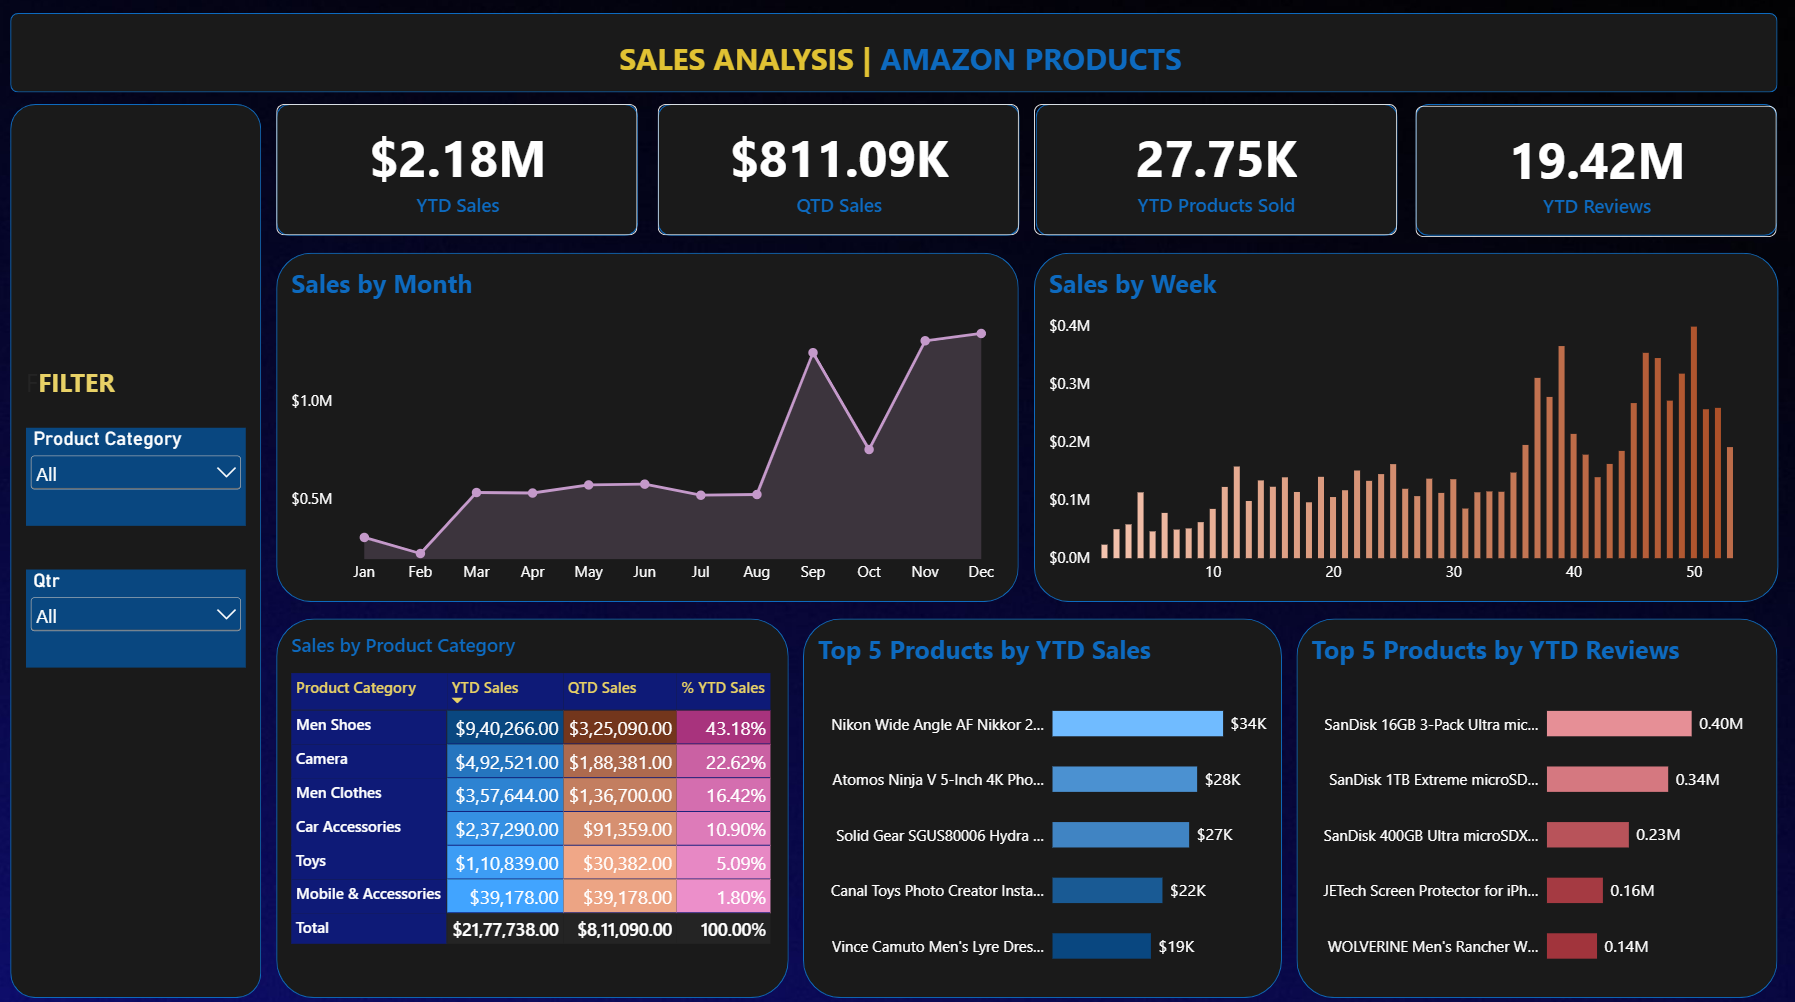

What the dashboard file says about the page in this screenshot:
{"tool":"powerbi","page":{"name":"Page 1","canvas":[1920,1080],"ordinal":0},"visuals":[{"type":"shape","box":[13.4,15.6,1884,84.7],"z":0},{"type":"shape","box":[13.4,111.5,267.6,952],"z":2000},{"type":"group","id":"g1","title":"Group 1","box":[296.5,111.5,1600.9,142.7],"z":3000},{"type":"shape","box":[296.5,111.5,385.7,140.5],"z":3000,"group":"g1"},{"type":"cardVisual","fields":{"Data":["Amazon_Data.YTD Sales"]},"box":[296.5,111.5,385.7,140.5],"z":4000,"group":"g1"},{"type":"shape","box":[296.5,269.8,791.5,372.3],"z":4000},{"type":"shape","box":[702.3,111.5,385.7,140.5],"z":4500,"group":"g1"},{"type":"cardVisual","fields":{"Data":["Amazon_Data.QTD Sales"]},"box":[702.3,111.5,385.7,140.5],"z":5000,"group":"g1"},{"type":"areaChart","title":"Sales by Month","fields":{"Category":["Date Table.Month Name"],"Y":["Sum(Amazon_Data.Price(Dollar))"]},"box":[296.5,269.8,791.5,372.3],"z":5000},{"type":"shape","box":[1106.6,111.5,385.7,140.5],"z":5500,"group":"g1"},{"type":"cardVisual","fields":{"Data":["Amazon_Data.YTD Products Sold"]},"box":[1103.6,111.5,388,140.5],"z":6000,"group":"g1"},{"type":"shape","box":[1103.7,269.8,793.7,372.3],"z":6000},{"type":"shape","box":[1511.6,111.5,385.7,140.5],"z":6500,"group":"g1"},{"type":"cardVisual","fields":{"Data":["Amazon_Data.YTD Reviews"]},"box":[1511.6,113.7,385.7,140.5],"z":7000,"group":"g1"},{"type":"columnChart","title":"Sales by Week","fields":{"Category":["Date Table.Week Number"],"Y":["Sum(Amazon_Data.Price(Dollar))"]},"box":[1103.7,269.8,793.7,372.3],"z":7000},{"type":"shape","box":[296.5,660,546.3,403.6],"z":8000},{"type":"pivotTable","title":"Sales by Product Category","fields":{"Rows":["Amazon_Data.Product Category"],"Values":["Amazon_Data.YTD Sales1","Amazon_Data.QTD Sales","Amazon_Data.YTD Sales"]},"box":[296.5,660,546.3,403.6],"z":9000},{"type":"shape","box":[858.4,660,510.6,403.6],"z":9001},{"type":"shape","box":[1384.6,660,512.8,403.6],"z":9002},{"type":"clusteredBarChart","title":"Top 5 Products by YTD Sales","fields":{"Category":["Amazon_Data.Product Description"],"Y":["Amazon_Data.YTD Sales"]},"box":[858.4,660,510.6,403.6],"z":9003},{"type":"clusteredBarChart","title":"Top 5 Products by YTD Reviews","fields":{"Category":["Amazon_Data.Product Description"],"Y":["Amazon_Data.YTD Reviews"]},"box":[1384.6,660,512.8,403.6],"z":9004},{"type":"slicer","fields":{"Values":["Amazon_Data.Product Category"]},"box":[29,457.1,234.1,104.8],"z":9005},{"type":"slicer","fields":{"Values":["Date Table.Qtr"]},"box":[29,608.7,234.1,104.8],"z":9007},{"type":"textbox","box":[662.2,40.1,613.1,44.6],"z":9008},{"type":"textbox","box":[29,390.2,234.1,35.7],"z":9010}]}

Visuals, with their boxes in screenshot pixels (x1, y1, x2, y2), scaled from the page's 1920x1080 canvas onto the 1795x1002 screenshot:
shape: detection(13, 14, 1774, 93)
shape: detection(13, 103, 263, 987)
"Group 1" group: detection(277, 103, 1774, 236)
shape: detection(277, 103, 638, 234)
cardVisual - Amazon_Data.YTD Sales: detection(277, 103, 638, 234)
shape: detection(277, 250, 1017, 596)
shape: detection(657, 103, 1017, 234)
cardVisual - Amazon_Data.QTD Sales: detection(657, 103, 1017, 234)
"Sales by Month" areaChart: detection(277, 250, 1017, 596)
shape: detection(1035, 103, 1395, 234)
cardVisual - Amazon_Data.YTD Products Sold: detection(1032, 103, 1394, 234)
shape: detection(1032, 250, 1774, 596)
shape: detection(1413, 103, 1774, 234)
cardVisual - Amazon_Data.YTD Reviews: detection(1413, 105, 1774, 236)
"Sales by Week" columnChart: detection(1032, 250, 1774, 596)
shape: detection(277, 612, 788, 987)
"Sales by Product Category" pivotTable: detection(277, 612, 788, 987)
shape: detection(803, 612, 1280, 987)
shape: detection(1294, 612, 1774, 987)
"Top 5 Products by YTD Sales" clusteredBarChart: detection(803, 612, 1280, 987)
"Top 5 Products by YTD Reviews" clusteredBarChart: detection(1294, 612, 1774, 987)
slicer - Amazon_Data.Product Category: detection(27, 424, 246, 521)
slicer - Date Table.Qtr: detection(27, 565, 246, 662)
textbox: detection(619, 37, 1192, 79)
textbox: detection(27, 362, 246, 395)
